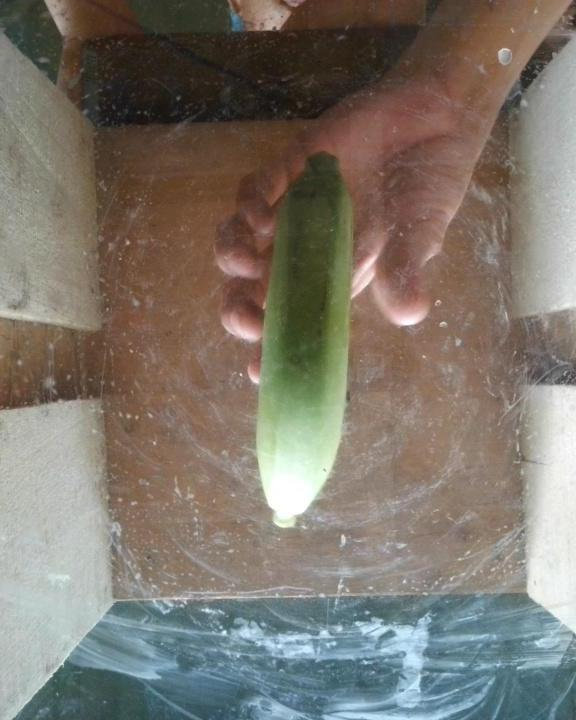CLASS B: (251, 148, 351, 536)
Class A: (313, 272, 334, 340)
